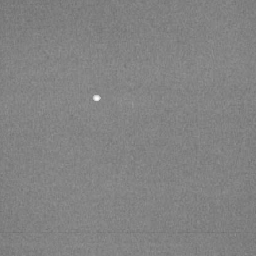Target: (91, 94, 102, 103)
